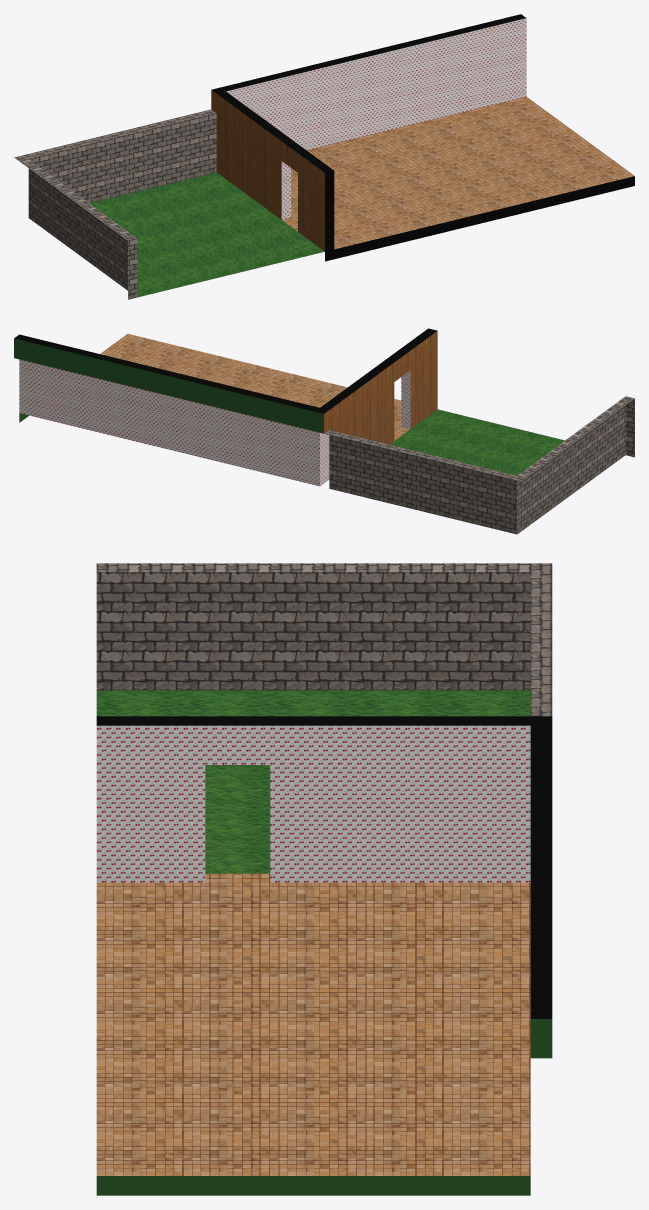
File: Home.obj
The picture shows the model from 3 angles, top to bottom: view 1: azimuth 30°, elevation 25°; view 2: azimuth 150°, elevation 25°; view 3: azimuth 270°, elevation 25°; orthographic projection. The views are drawn at different scales.
Parts seen in each view (by area): view 1: Home_Plane; view 2: Home_Plane; view 3: Home_Plane.
Part boxes in pixels (<box>): Home_Plane: <box>14,14,634,299</box>; Home_Plane: <box>14,328,634,534</box>; Home_Plane: <box>96,563,552,1195</box>.
Size of the model in its own units: 27 by 4.5 by 10.5.
